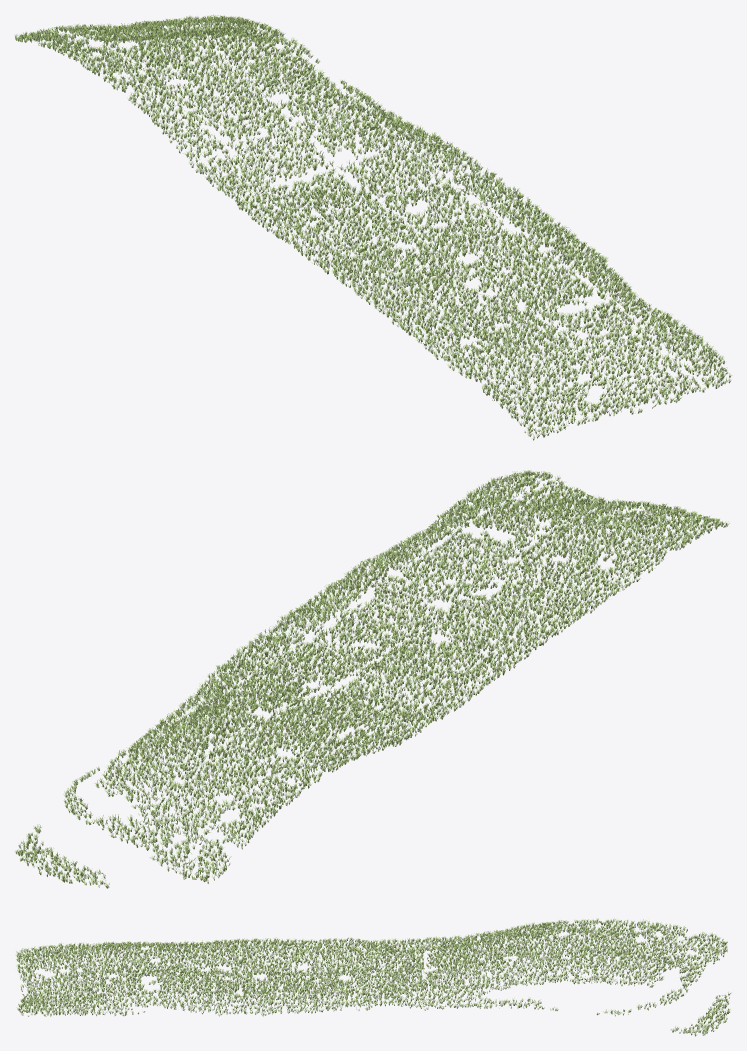
The model's file is detail.glb.
The picture shows the model from 3 angles, top to bottom: view 1: azimuth 30°, elevation 25°; view 2: azimuth 150°, elevation 25°; view 3: azimuth 270°, elevation 25°; orthographic projection. The views are drawn at different scales.
Parts seen in each view (by area): view 1: GRASS_+004_+000_0, GRASS_+004_-003_0, GRASS_+004_+001_0, GRASS_+004_-001_0, GRASS_+004_-002_0, GRASS_+004_+002_0, GRASS_+005_-001, GRASS_+005_-002, GRASS_+005_-003, GRASS_+004_-004, GRASS_+005_+000, GRASS_+003_+001 (+15 smaller); view 2: GRASS_+004_+002_0, GRASS_+004_-002_0, GRASS_+004_-001_0, GRASS_+004_+000_0, GRASS_+004_-003_0, GRASS_+004_+001_0, GRASS_+005_-001, GRASS_+005_-002, GRASS_+005_+000, GRASS_+005_-003, GRASS_+003_-002, GRASS_+003_-001 (+17 smaller); view 3: GRASS_+004_+002_0, GRASS_+004_-003_0, GRASS_+004_-001_0, GRASS_+004_-002_0, GRASS_+004_+001_0, GRASS_+004_+000_0, GRASS_+005_-002, GRASS_+005_+000, GRASS_+005_-001, GRASS_+005_-003, GRASS_+004_-004, GRASS_+005_+001 (+18 smaller).
Part boxes in pixels (x1,y1,x2,y2): GRASS_+004_+000_0: [221, 110, 417, 220]; GRASS_+004_-003_0: [457, 297, 651, 403]; GRASS_+004_+001_0: [140, 44, 333, 149]; GRASS_+004_-001_0: [298, 185, 494, 276]; GRASS_+004_-002_0: [377, 245, 572, 336]; GRASS_+004_+002_0: [62, 15, 261, 76]; GRASS_+005_-001: [435, 167, 571, 239]; GRASS_+005_-002: [513, 228, 631, 296]; GRASS_+005_-003: [600, 288, 719, 371]; GRASS_+004_-004: [536, 372, 692, 431]; GRASS_+005_+000: [357, 110, 483, 181]; GRASS_+003_+001: [110, 73, 218, 163]; GRASS_+004_+002_0: [95, 739, 288, 849]; GRASS_+004_-002_0: [405, 537, 598, 629]; GRASS_+004_-001_0: [328, 598, 517, 686]; GRASS_+004_+000_0: [248, 652, 442, 732]; GRASS_+004_-003_0: [482, 497, 677, 573]; GRASS_+004_+001_0: [176, 693, 364, 774]; GRASS_+005_-001: [256, 581, 383, 650]; GRASS_+005_-002: [329, 526, 463, 594]; GRASS_+005_+000: [186, 635, 305, 702]; GRASS_+005_-003: [427, 478, 540, 532]; GRASS_+003_-002: [523, 571, 625, 639]; GRASS_+003_-001: [443, 628, 548, 698]; GRASS_+004_+002_0: [587, 927, 695, 987]; GRASS_+004_-003_0: [51, 945, 160, 994]; GRASS_+004_-001_0: [265, 945, 373, 986]; GRASS_+004_-002_0: [158, 946, 266, 986]; GRASS_+004_+001_0: [479, 927, 588, 971]; GRASS_+004_+000_0: [372, 939, 481, 984]; GRASS_+005_-002: [158, 986, 267, 1016]; GRASS_+005_+000: [372, 981, 481, 1010]; GRASS_+005_-001: [265, 987, 373, 1014]; GRASS_+005_-003: [51, 986, 159, 1015]; GRASS_+004_-004: [16, 952, 52, 1004]; GRASS_+005_+001: [479, 975, 587, 1010].
Bounding box in the file's own units: 61.19 × 18.7 × 241.
